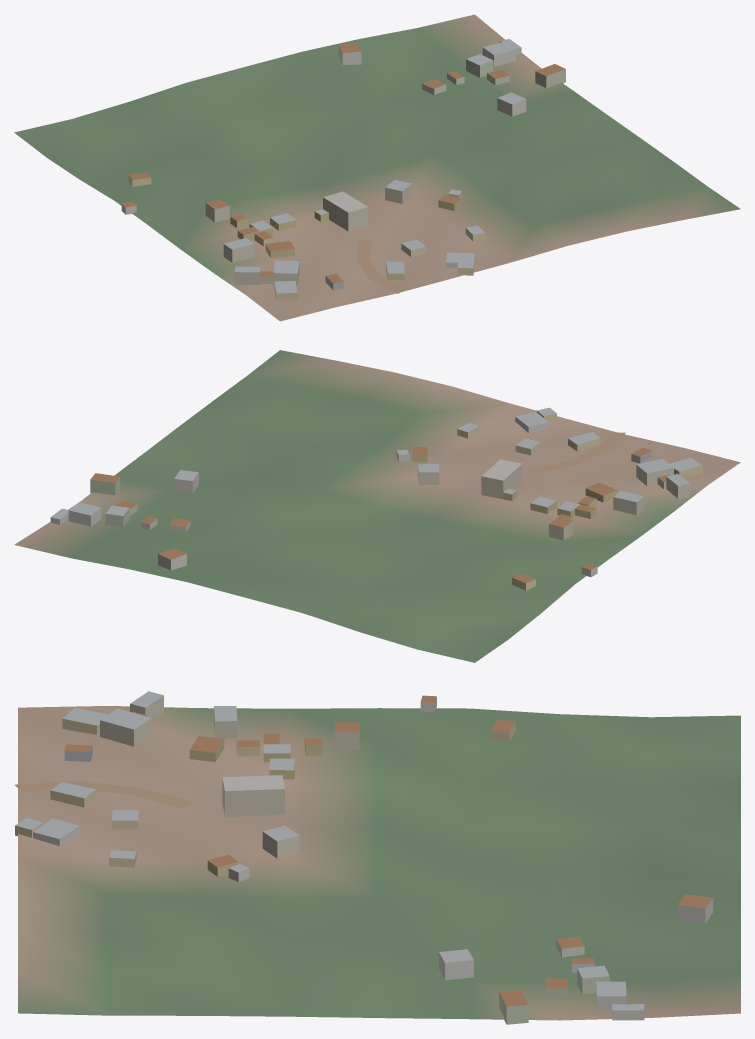
The picture shows the model from 3 angles, top to bottom: view 1: azimuth 30°, elevation 25°; view 2: azimuth 150°, elevation 25°; view 3: azimuth 270°, elevation 25°; orthographic projection. The views are drawn at different scales.
Parts seen in each view (by area): view 1: Lo; view 2: Lo; view 3: Lo.
Boxes of the visible parts, x1,y1,x2,y2 form: Lo: (14,14,740,321); Lo: (14,350,740,662); Lo: (14,691,740,1024).
Bounding box in the file's own units: 262 × 13.76 × 257.
